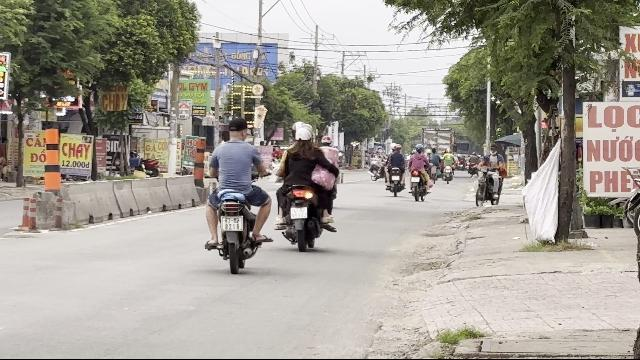helmet: (294, 125, 314, 147)
licenseplate: (221, 216, 243, 231), (291, 207, 307, 219)
motorcyclist: (200, 116, 272, 272), (272, 121, 338, 252)
nohelmet: (227, 117, 249, 141)
